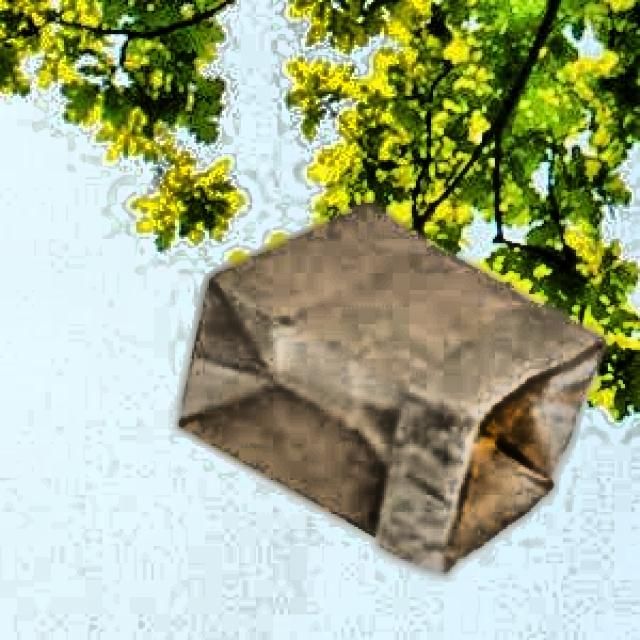Paper-bag: (158, 198, 611, 582)
